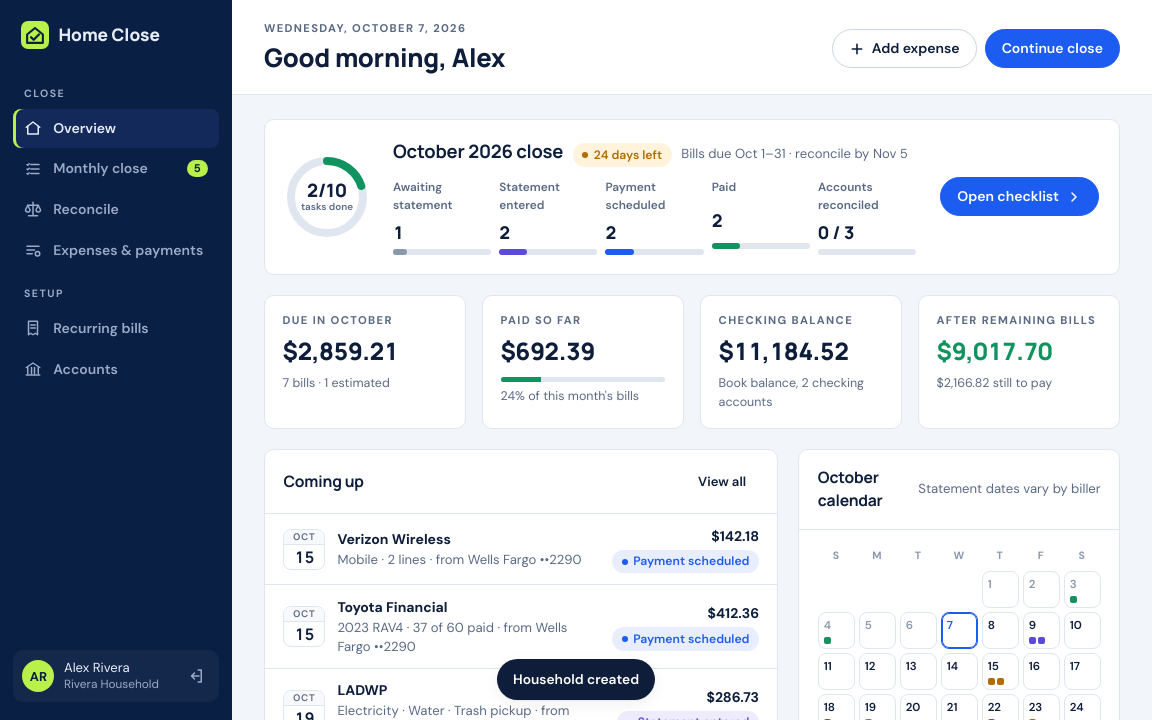
login and sign-up (UI only) › signing out returns to the login screen
Click the link named "Sign out": x=196, y=676 [187,667,205,685]
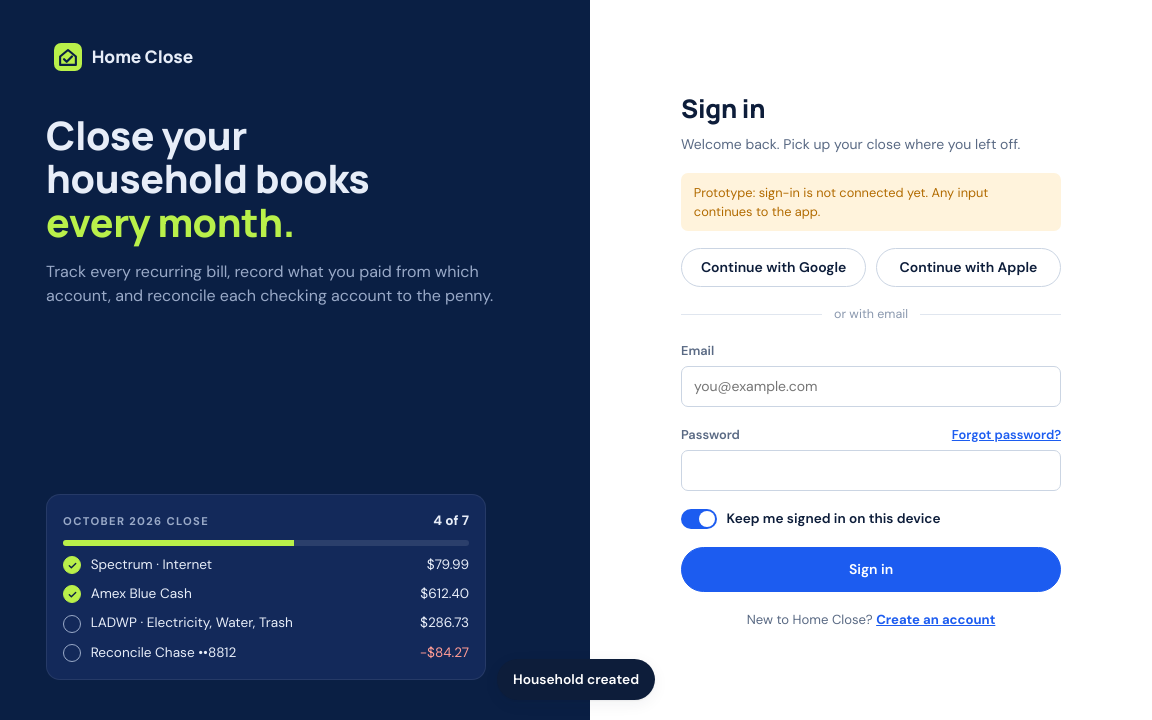
Check: the heading "Sign in" is shown, box [681,92,765,126]
